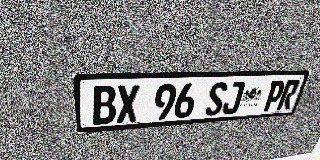6: (173, 83, 197, 119)
9: (153, 83, 177, 120)
B: (91, 85, 116, 125)
J: (221, 81, 246, 115)
P: (261, 80, 286, 112)
R: (276, 79, 301, 111)
S: (204, 82, 229, 116)
X: (116, 84, 139, 123)
